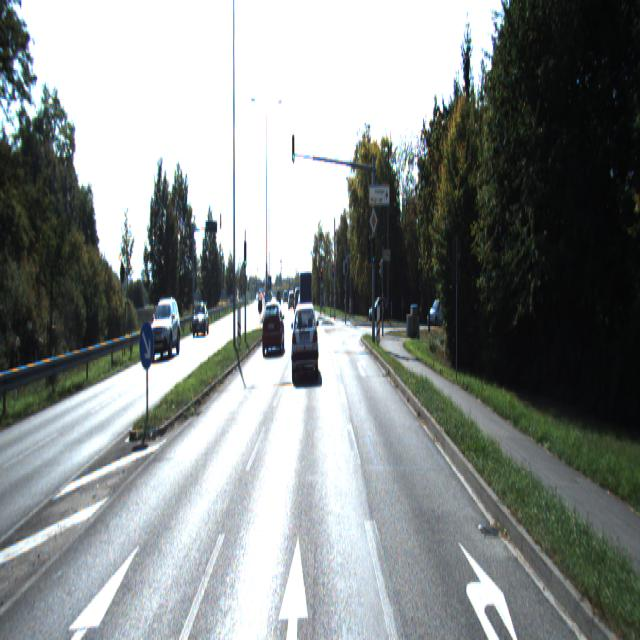Car: (291, 310, 319, 383), (150, 300, 180, 359), (263, 303, 284, 357), (298, 271, 312, 330), (192, 306, 209, 341)
